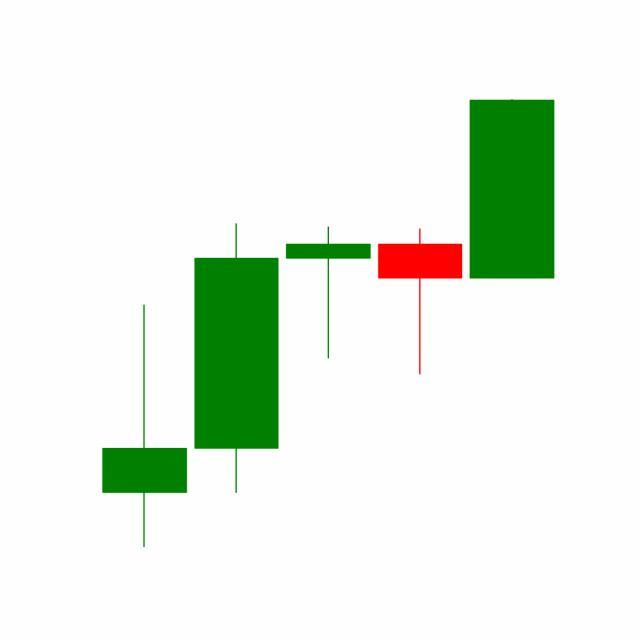Marubozu: (466, 97, 559, 281)
